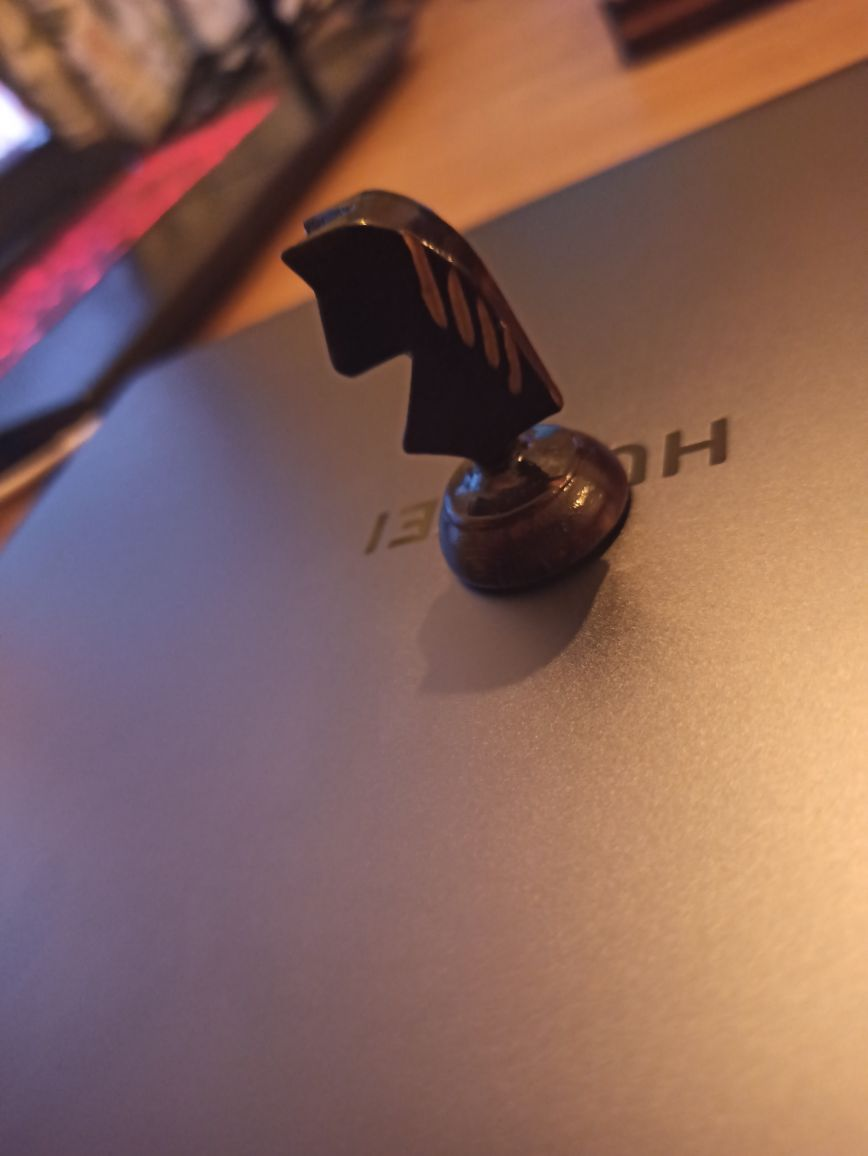bknight: (278, 182, 633, 599)
